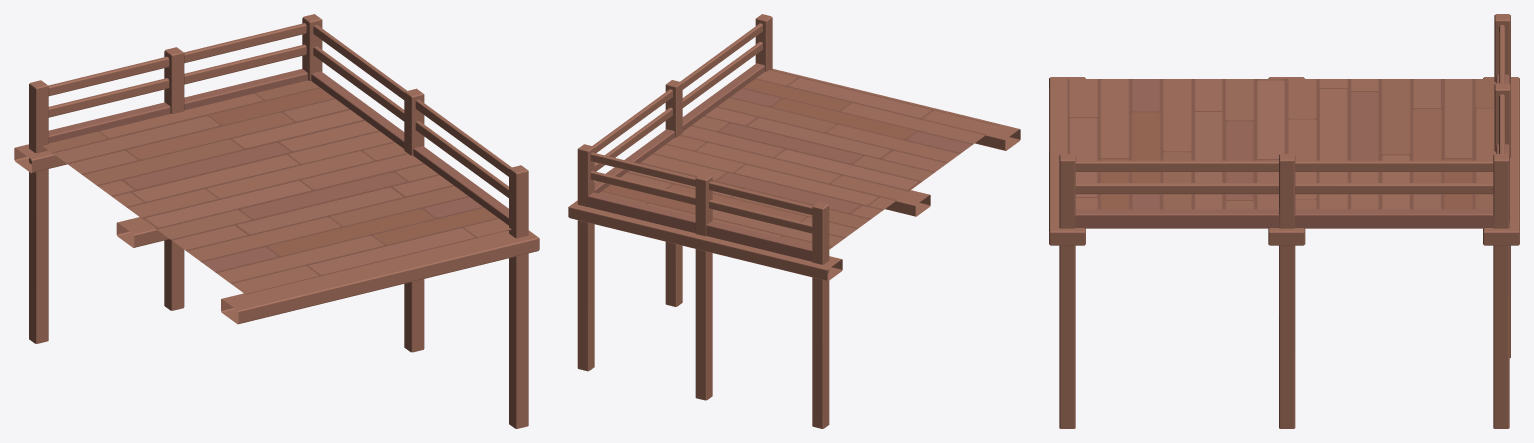
File: BoardWalkCornerRight.fbx
3 views of the same model, side by side, from view 1: azimuth 30°, elevation 25°; view 2: azimuth 150°, elevation 25°; view 3: azimuth 270°, elevation 25° (orthographic). The views are drawn at different scales.
Parts seen in each view (by area): view 1: BoardWalkCornerRight; view 2: BoardWalkCornerRight; view 3: BoardWalkCornerRight.
Boxes of the visible parts, box(x1,y1,x2,y2) form: BoardWalkCornerRight: box(14, 14, 539, 428); BoardWalkCornerRight: box(568, 14, 1020, 428); BoardWalkCornerRight: box(1049, 14, 1519, 428).
Bounding box in the file's own units: 669 × 542 × 860.
